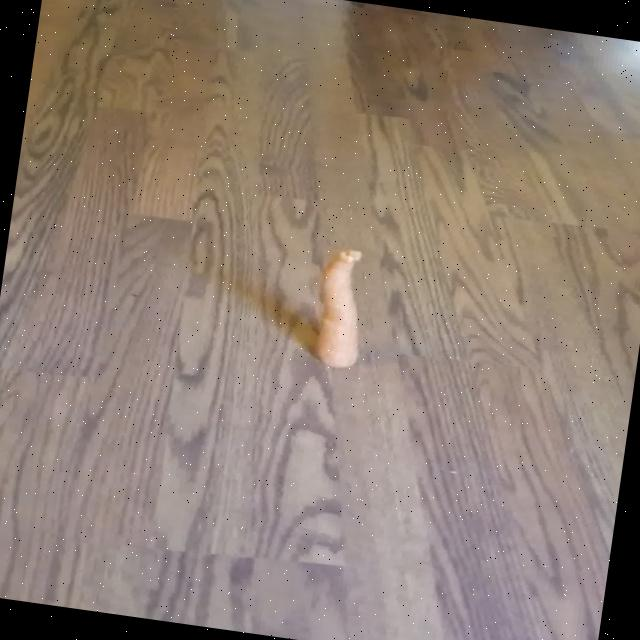carrot: (315, 249, 361, 368)
